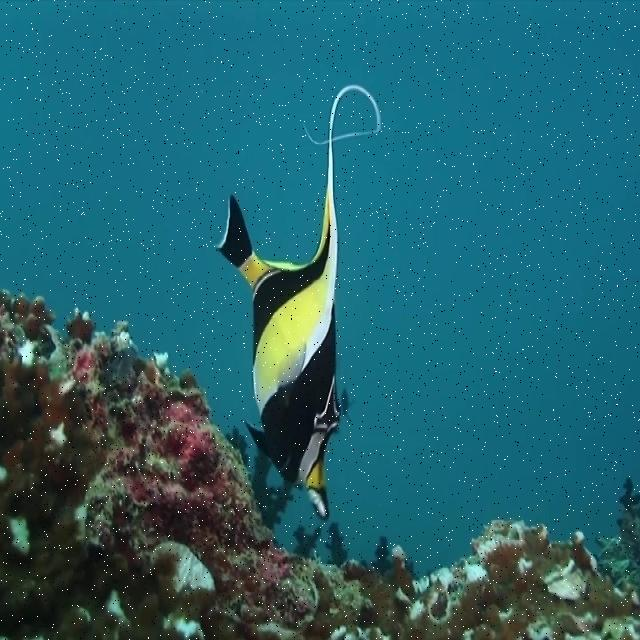fish: (207, 79, 388, 518)
reefs: (0, 289, 636, 639)
